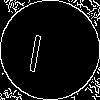I: (25, 25, 47, 73)
